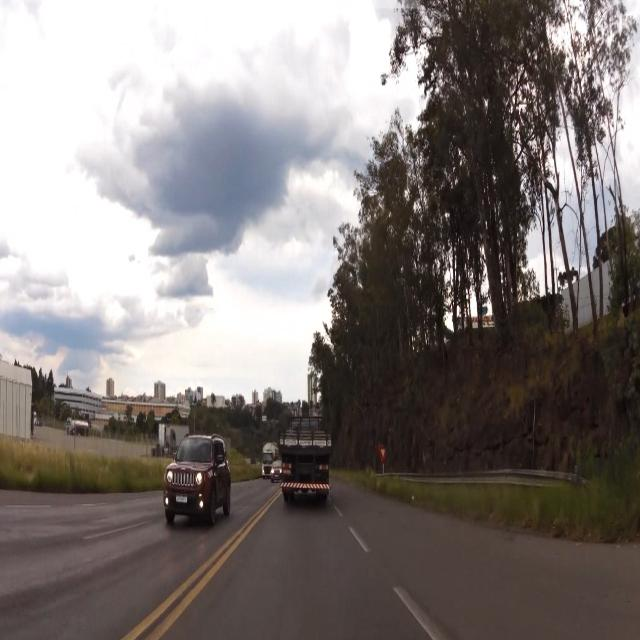R-2: (378, 444, 390, 462)
